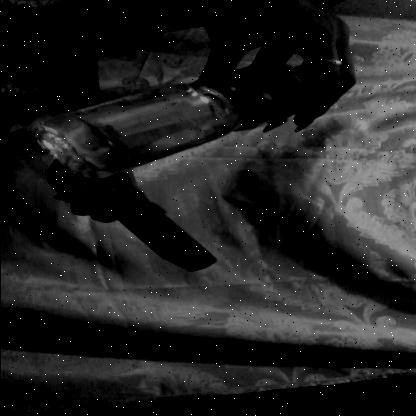Plastic Bottle: (21, 53, 362, 184)
